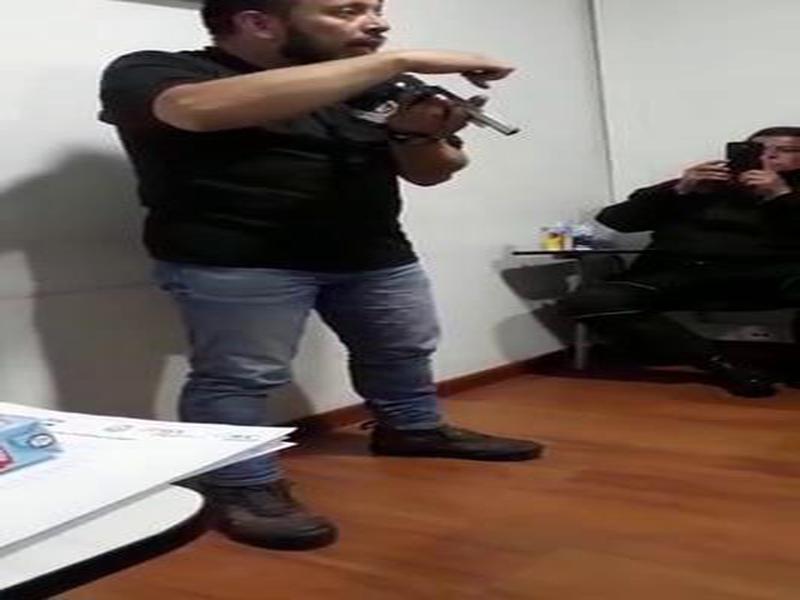Revolver: (380, 65, 542, 171)
